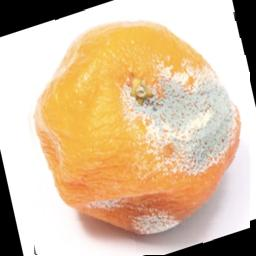Orange Rotten: (20, 9, 251, 256)
